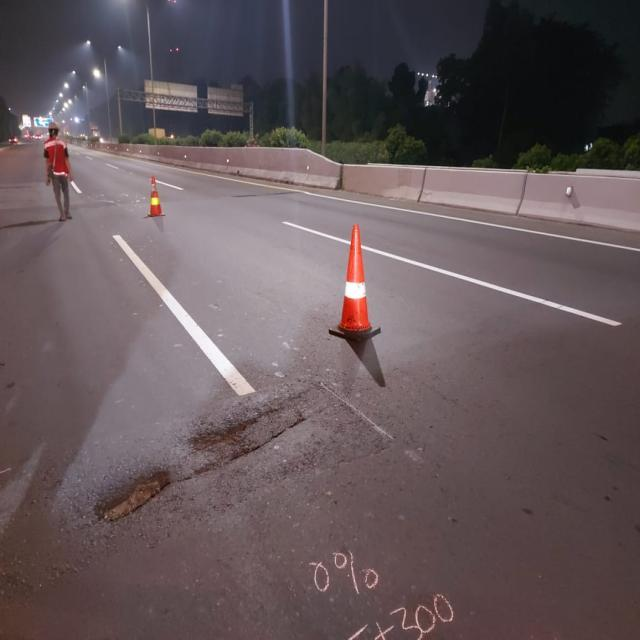Buraco: (90, 468, 173, 526), (185, 416, 261, 454)
